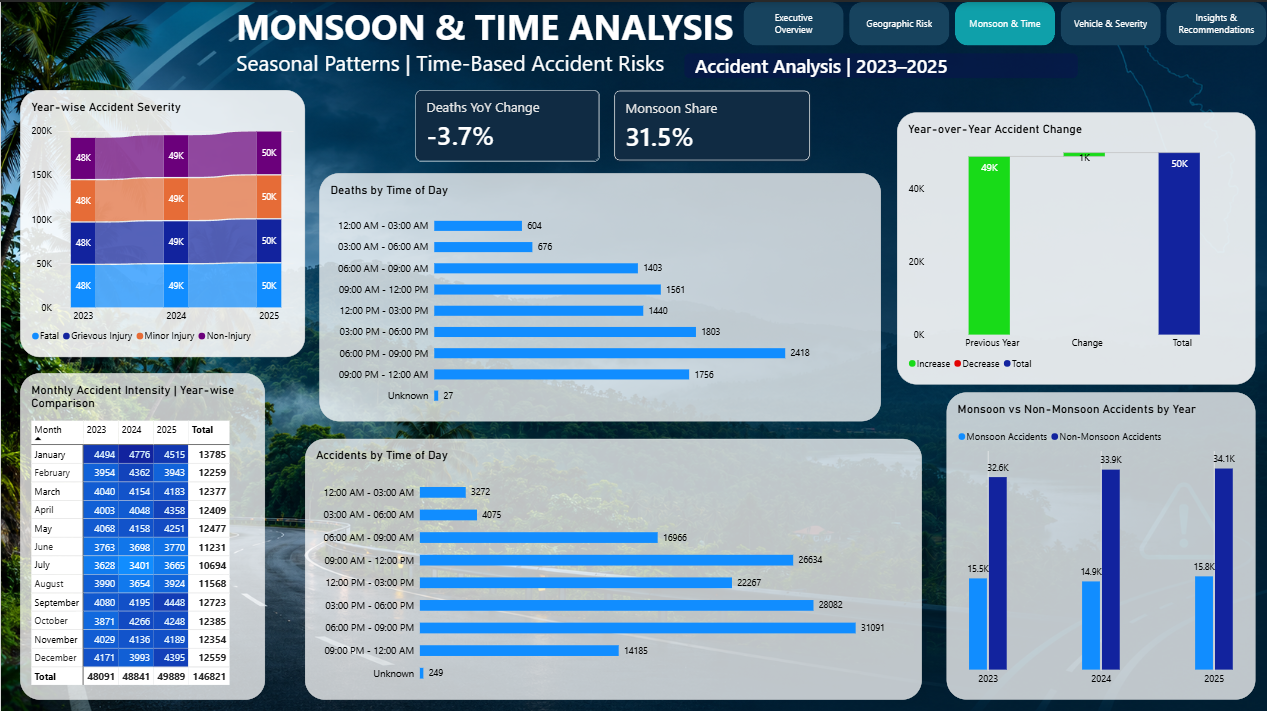

Layout of this report page (visuals, bound fields, positions):
{"tool":"powerbi","page":{"name":"Monsoon & Time","canvas":[1920,1080],"ordinal":2},"visuals":[{"type":"textbox","box":[356.5,0,766.4,132.4],"z":0},{"type":"cardVisual","fields":{"Data":["Calculation_tbl.Deaths YoY Change %"]},"box":[627.3,133.2,279.7,108.9],"z":1000},{"type":"cardVisual","fields":{"Data":["Calculation_tbl.Monsoon Share (%)"]},"box":[927.6,133.2,298.9,108.9],"z":4000},{"type":"pivotTable","title":"Monthly Accident Intensity | Year-wise Comparison","fields":{"Columns":["DimDate.Year"],"Rows":["DimDate.Month"],"Values":["FactMonthlyAccidents.Total Accidents"]},"box":[29.1,561.9,370.6,494.1],"z":6000},{"type":"clusteredColumnChart","title":"Monsoon vs Non-Monsoon Accidents by Year","fields":{"Category":["DimYear.Year"],"Y":["Calculation_tbl.Monsoon Accidents","Calculation_tbl.Non-Monsoon Accidents"]},"box":[1431.4,591,467.5,465],"z":7000},{"type":"clusteredBarChart","title":"Accidents by Time of Day","fields":{"Category":["FactTimeOfDay.TimePeriod"],"Y":["Sum(FactTimeOfDay.TotalCases)"]},"box":[460.3,661.7,933.6,394.9],"z":8000},{"type":"clusteredBarChart","title":"Deaths by Time of Day","fields":{"Category":["FactTimeOfDay.TimePeriod"],"Y":["Sum(FactTimeOfDay.Deaths)"]},"box":[482,259.2,850.1,375.4],"z":9000},{"type":"pageNavigator","box":[1122.9,0,796.3,66.2],"z":10000},{"type":"cardVisual","fields":{"Data":["Calculation_tbl.Dynamic Report Subtitle"]},"box":[1034,78,596,38],"z":11000},{"type":"waterfallChart","title":"Year-over-Year Accident Change","fields":{"Category":["YoY Waterfall Steps.Step"],"Y":["Calculation_tbl.Accident YoY Waterfall Value"]},"box":[1356.3,167.1,542.5,411.7],"z":12000},{"type":"ribbonChart","title":"Year-wise Accident Severity","fields":{"Category":["DimYear.Year"],"Series":["DimSeverity.Severity"],"Y":["FactMonthlyAccidents.Total Accidents"]},"box":[29.1,133.2,431.1,404.5],"z":13000}]}

Visuals, with their boxes in screenshot pixels (x1, y1, x2, y2), scaled from the page's 1920x1080 canvas onto the 1267x711 screenshot:
textbox: box(235, 0, 741, 87)
cardVisual - Calculation_tbl.Deaths YoY Change %: box(414, 88, 599, 159)
cardVisual - Calculation_tbl.Monsoon Share (%): box(612, 88, 809, 159)
"Monthly Accident Intensity | Year-wise Comparison" pivotTable: box(19, 370, 264, 695)
"Monsoon vs Non-Monsoon Accidents by Year" clusteredColumnChart: box(945, 389, 1253, 695)
"Accidents by Time of Day" clusteredBarChart: box(304, 436, 920, 696)
"Deaths by Time of Day" clusteredBarChart: box(318, 171, 879, 418)
pageNavigator: box(741, 0, 1266, 44)
cardVisual - Calculation_tbl.Dynamic Report Subtitle: box(682, 51, 1076, 76)
"Year-over-Year Accident Change" waterfallChart: box(895, 110, 1253, 381)
"Year-wise Accident Severity" ribbonChart: box(19, 88, 304, 354)
